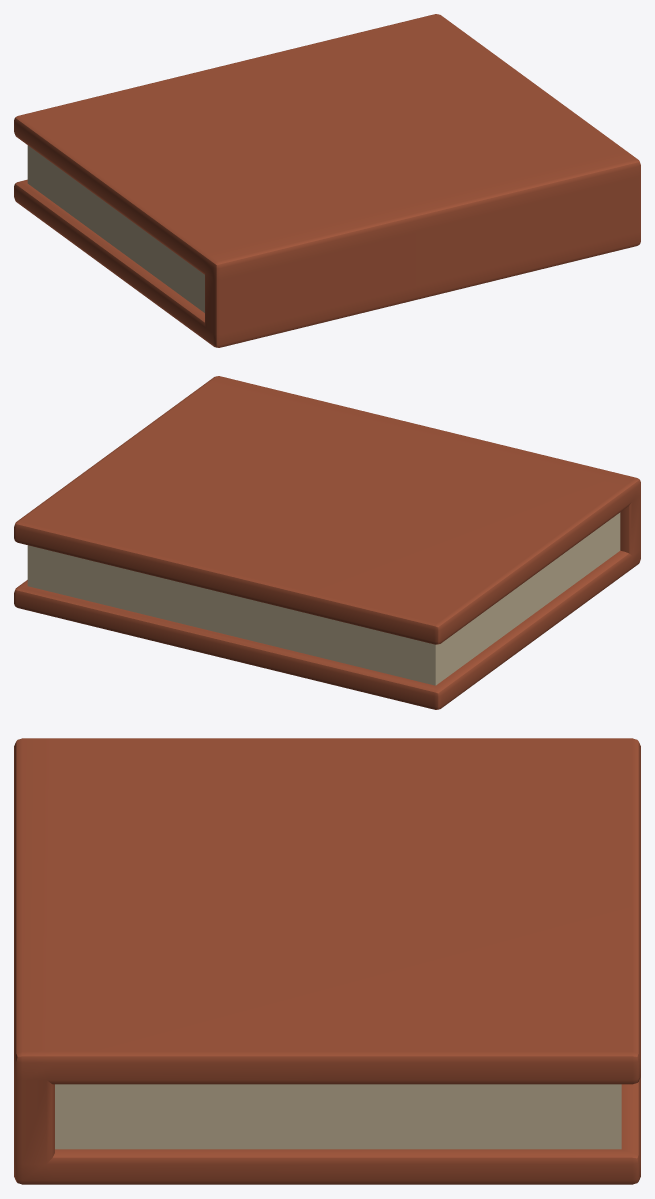
File: Boox_red.fbx
3 renders of one model, top to bottom at view 1: azimuth 30°, elevation 25°; view 2: azimuth 150°, elevation 25°; view 3: azimuth 270°, elevation 25°, orthographic. The views are drawn at different scales.
Parts seen in each view (by area): view 1: pCube1; view 2: pCube1; view 3: pCube1.
Boxes of the visible parts, left/top/right/bottom form: pCube1: left=14, top=14, right=640, bottom=347; pCube1: left=14, top=376, right=640, bottom=709; pCube1: left=14, top=738, right=640, bottom=1184.
Bounding box in the file's own units: 10.12 × 1.96 × 8.38.
